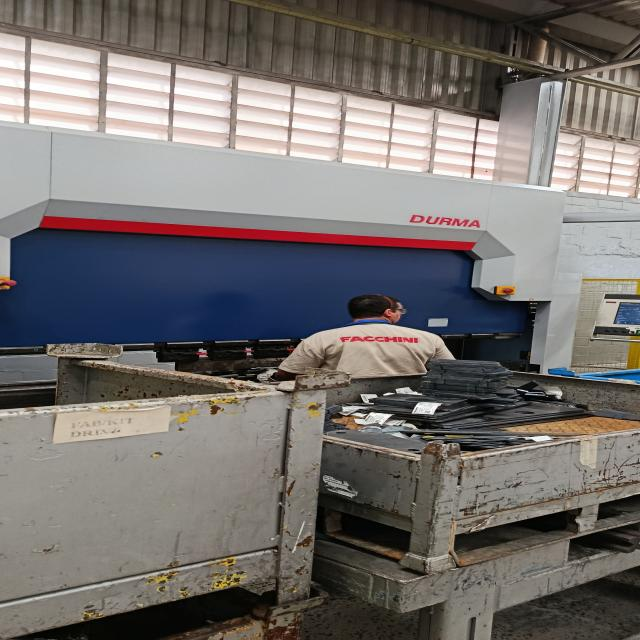oculos-epi: (391, 308, 408, 315)
